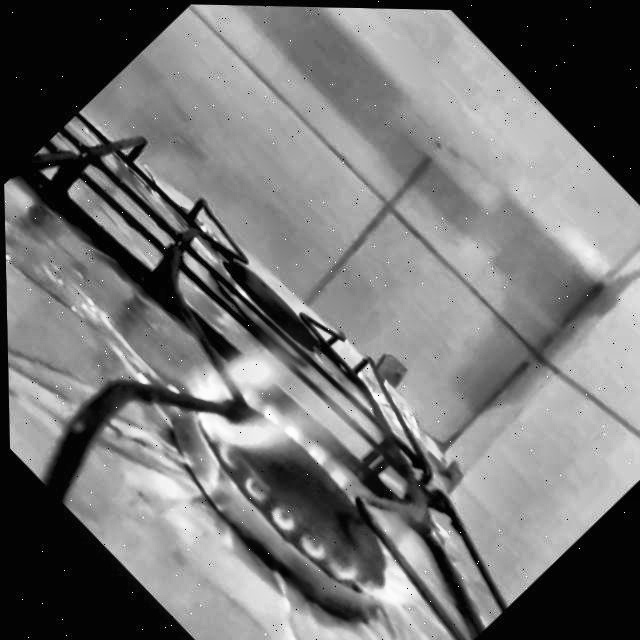Fire: (148, 277, 503, 636)
